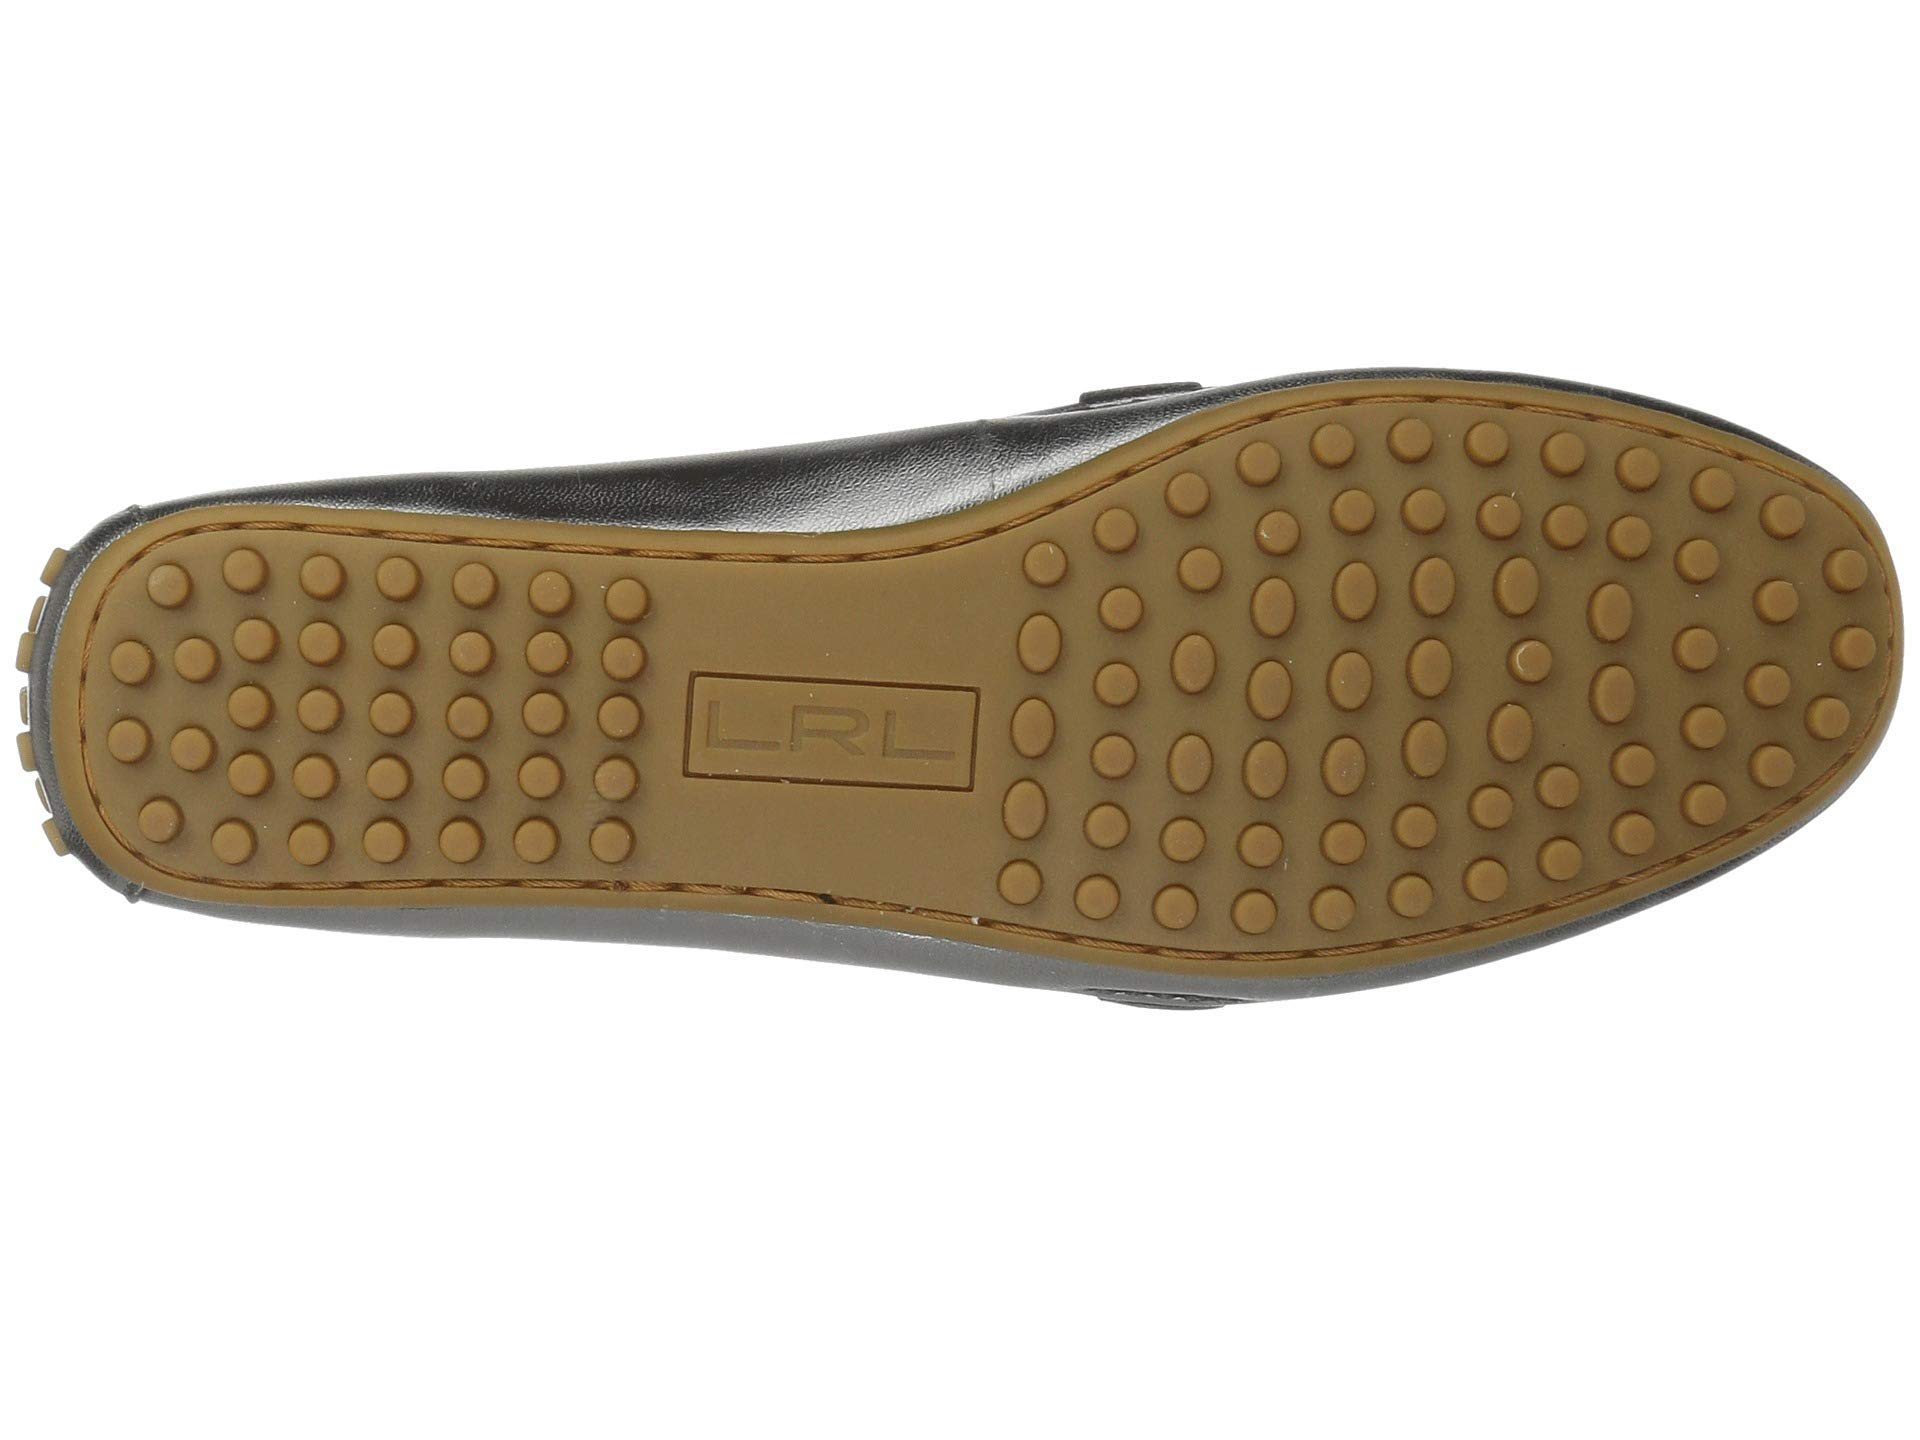circle: (1430, 436, 1816, 817), (1075, 517, 1426, 933), (184, 567, 481, 843)
quad: (650, 569, 993, 874)
text: (650, 569, 993, 874)
